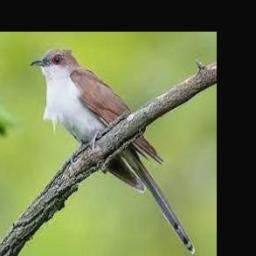Cuckoo: (31, 47, 196, 254)
